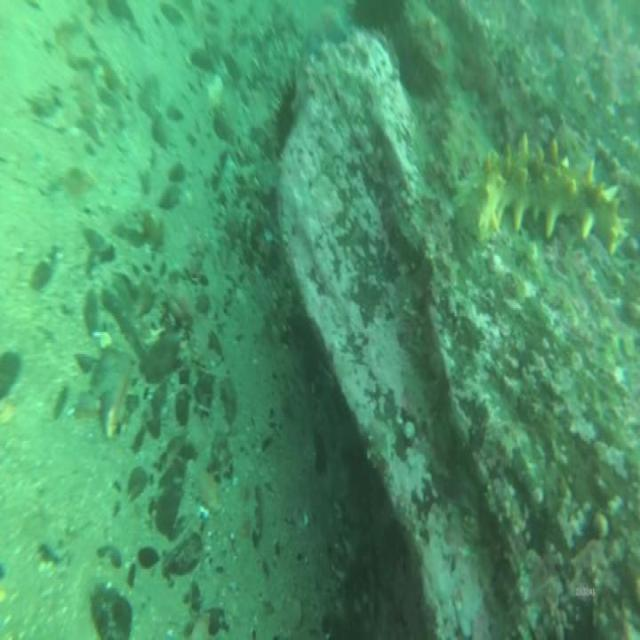echinus: (400, 46, 436, 101), (354, 2, 402, 30), (275, 88, 296, 147)
holothurian: (468, 131, 630, 255), (338, 452, 378, 638)
